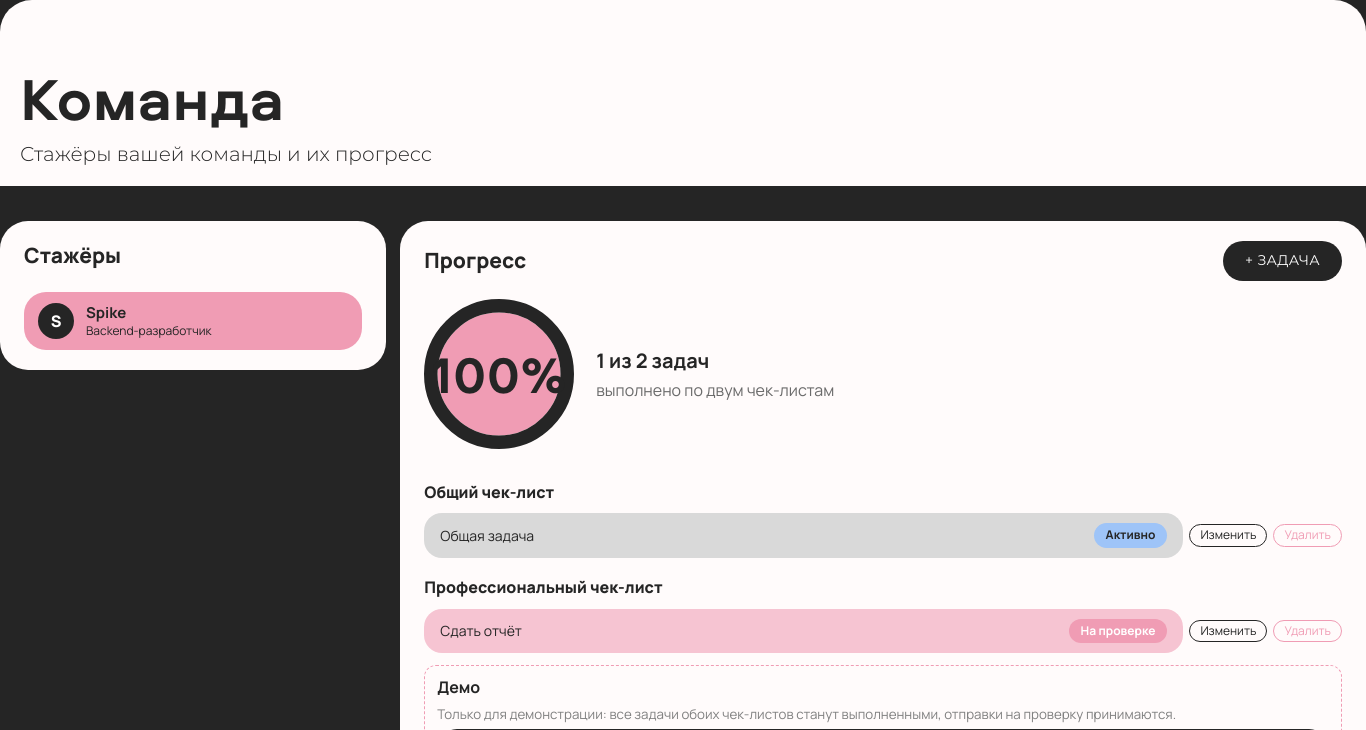
Scenario: Команда руководителя › видит оба чек-листа, но не вкладку проверки и не кнопки решения
The image size is (1366, 730).
Expected: the text "Общая задача" is shown, [440,526,534,545]
Click the text "Сдать отчёт". click: click(481, 631)
box: [440,621,522,640]
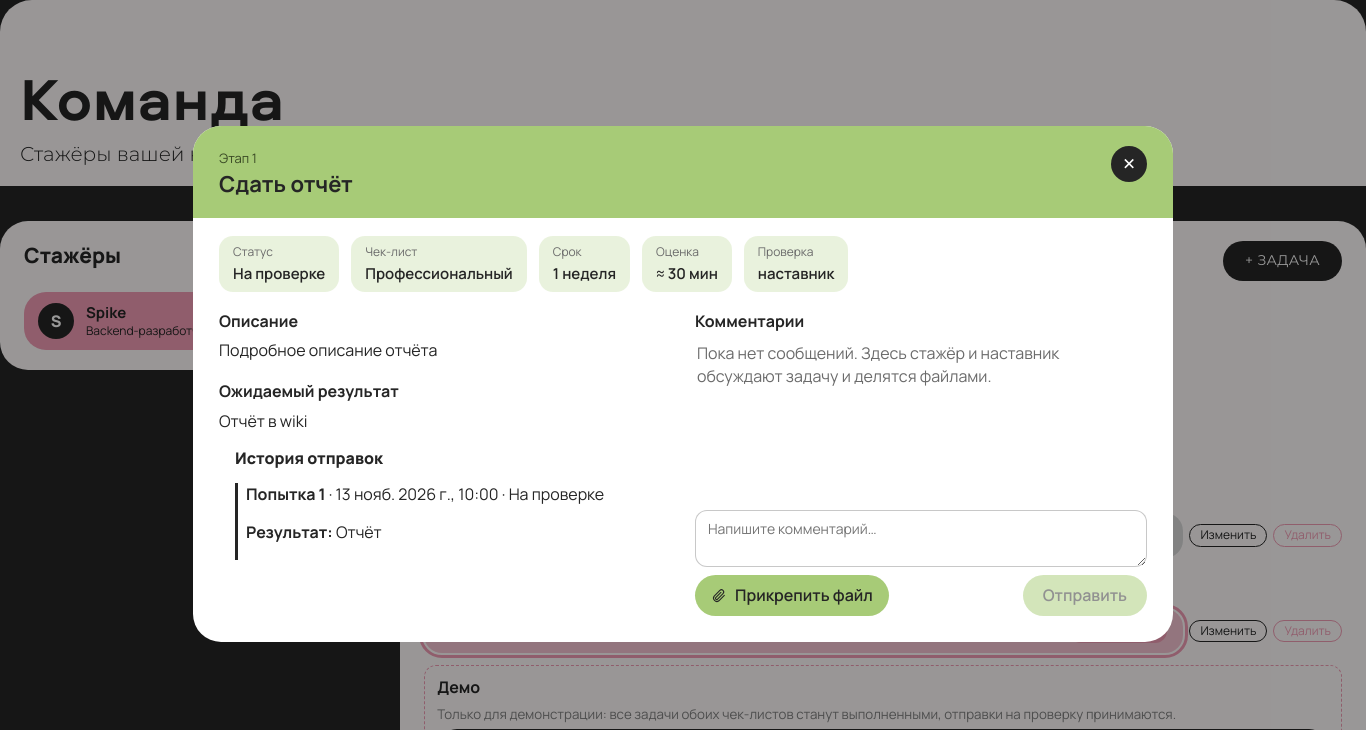
Expected: the heading "История отправок" is shown, [235,447,383,469]
